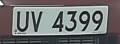3: (65, 9, 78, 34)
4: (50, 9, 65, 34)
9: (78, 9, 91, 33), (91, 9, 104, 33)
U: (16, 10, 31, 35)
V: (29, 11, 44, 33)
